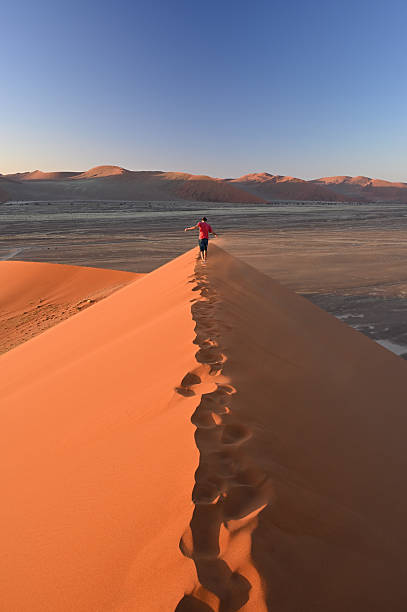human_footprint: (176, 269, 268, 611)
